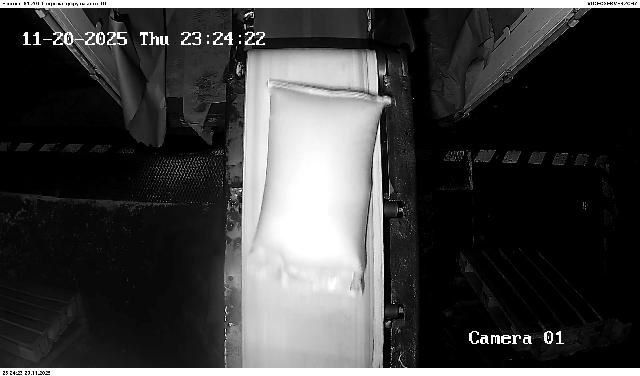bag: (249, 79, 390, 294)
